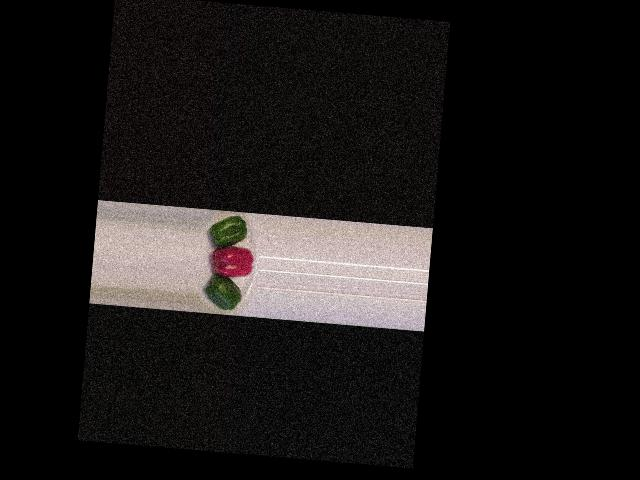bell_pepper: (200, 273, 247, 313)
